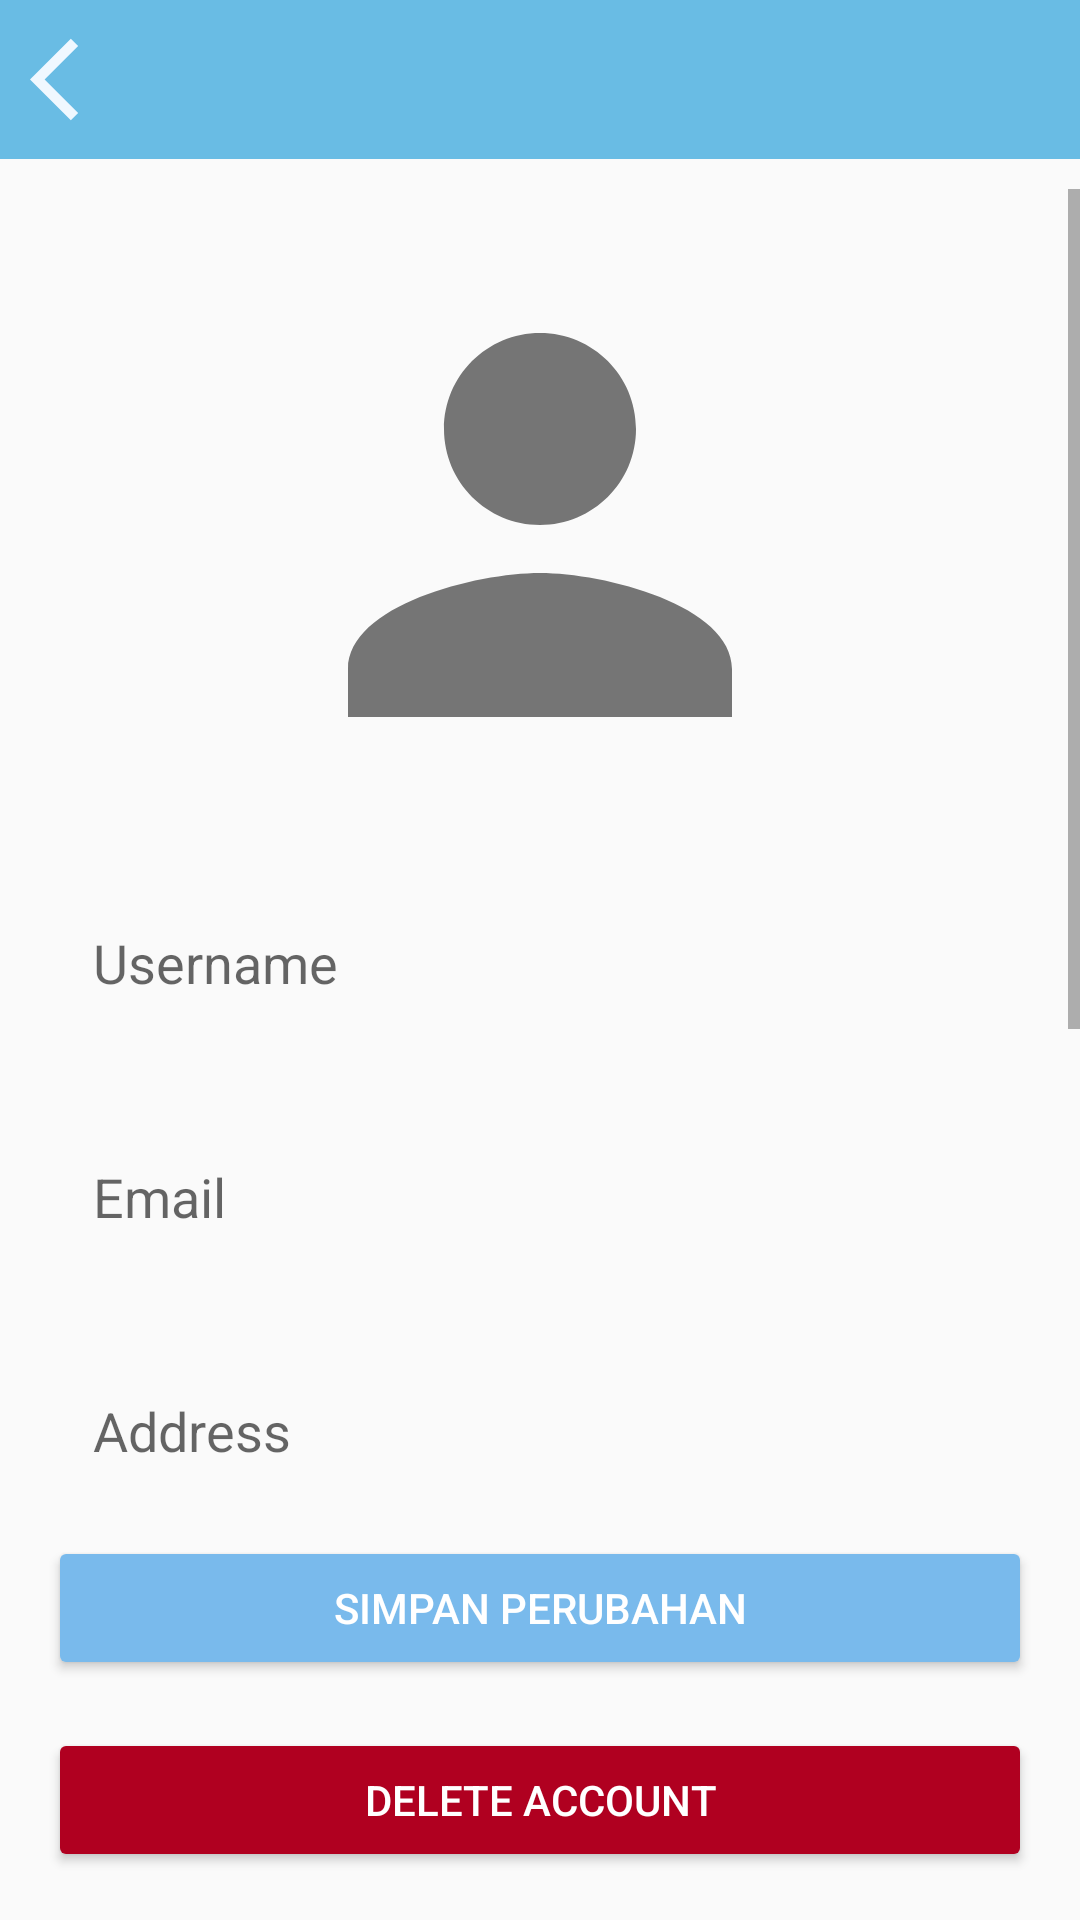

Named icons in this screenshot (1080w x 1920h) and their centers, point (x, y):
arrow back: point (54, 79)
